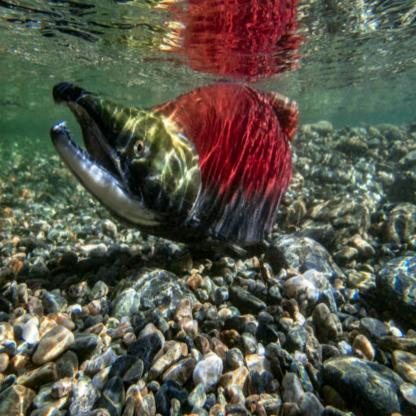sockeye: (46, 69, 294, 246)
